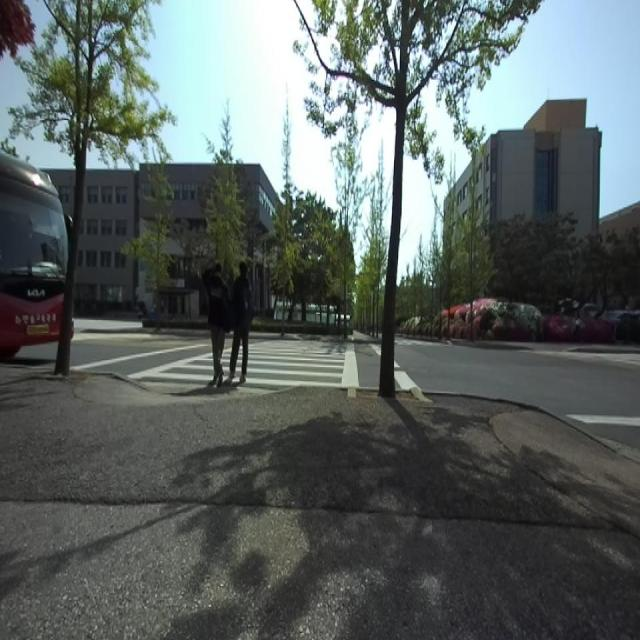sidewalk: (0, 367, 640, 638)
